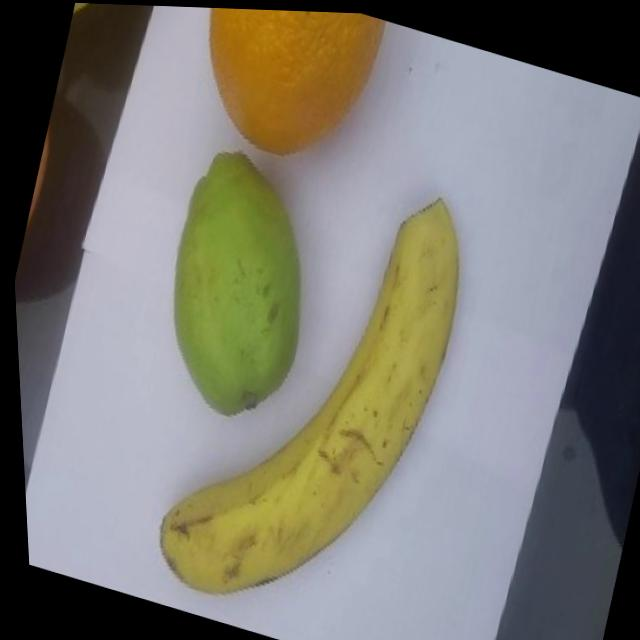Banana: (124, 133, 494, 640)
Orange: (175, 5, 393, 177)
